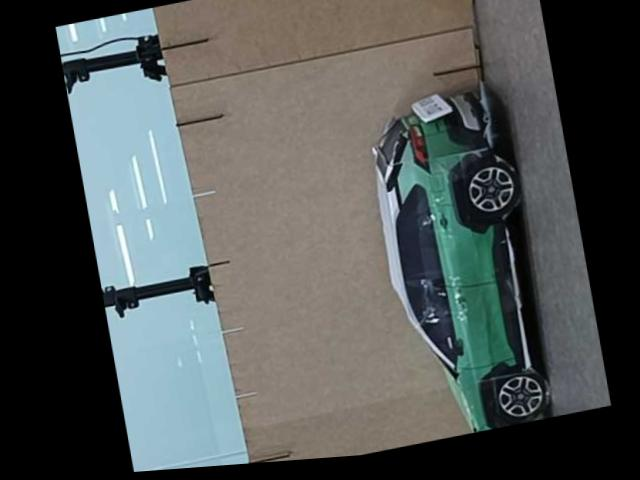car: (350, 63, 563, 448)
id: (406, 87, 455, 128)
